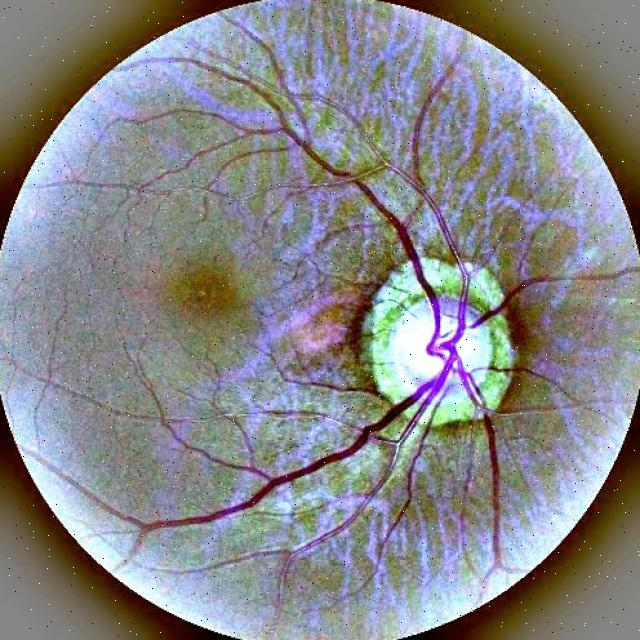Macula: (173, 268, 237, 315)
Nerves: (127, 48, 622, 579)
Optic Disk: (392, 299, 496, 401)
